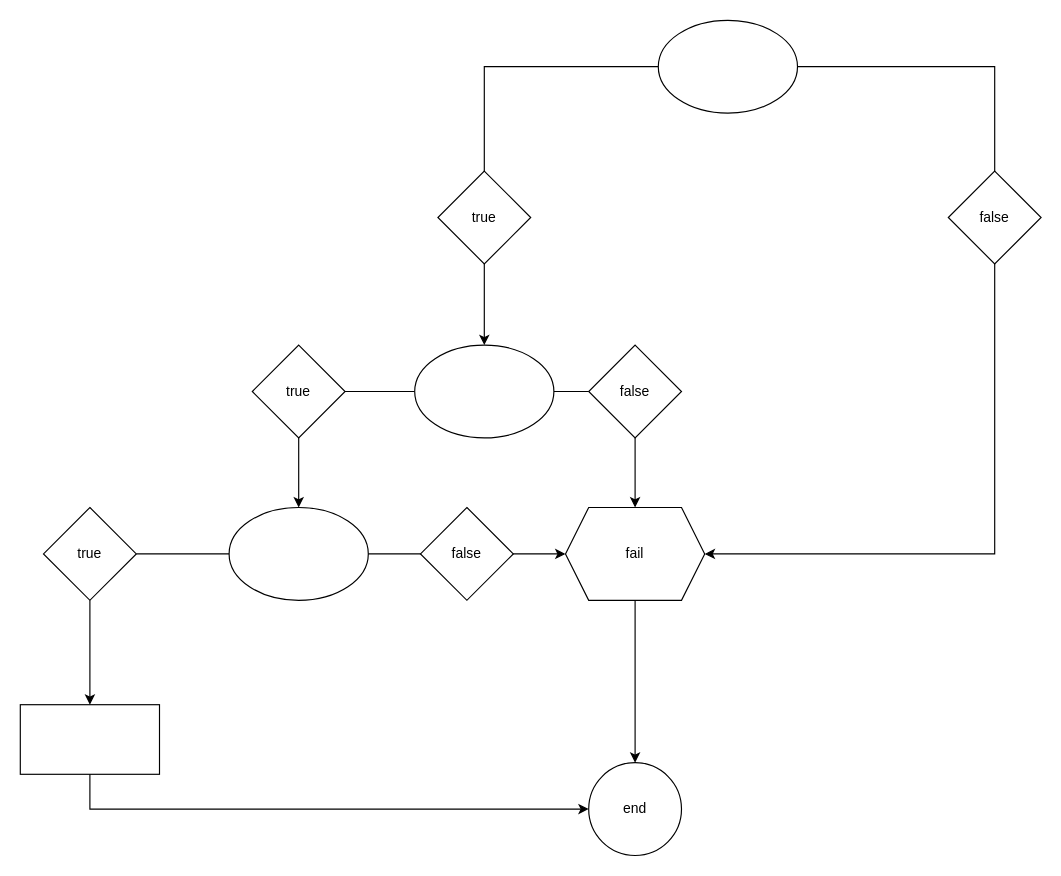
Image size: 1061x876. Some labels were removed from this diagram. Here are the shapes that lost their labels. From the top down, the centre of each, then its label:
At point (727, 66): "x1>x2".
At point (484, 391): "x1>x3".
At point (298, 553): "x2>x3".
At point (89, 739): "output n1>n2, n1>n3, n2>n3".
